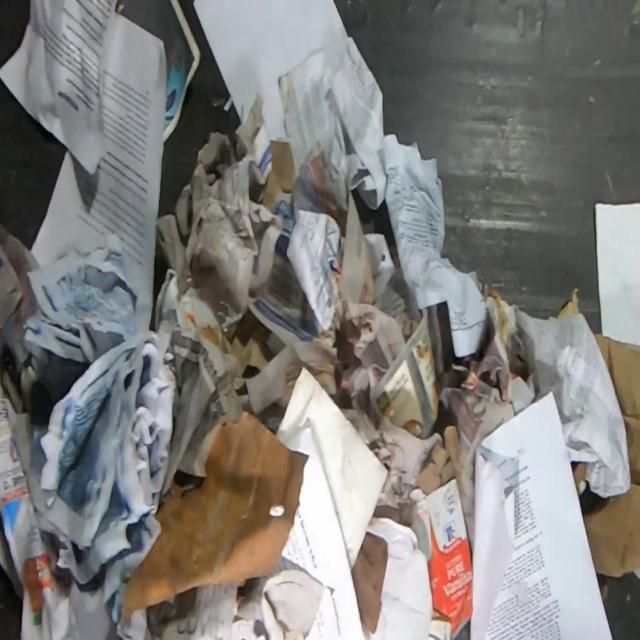cardboard: (570, 333, 640, 604), (401, 477, 472, 639), (261, 139, 295, 214), (556, 285, 580, 321)
rigid_plastic: (370, 307, 439, 439)
